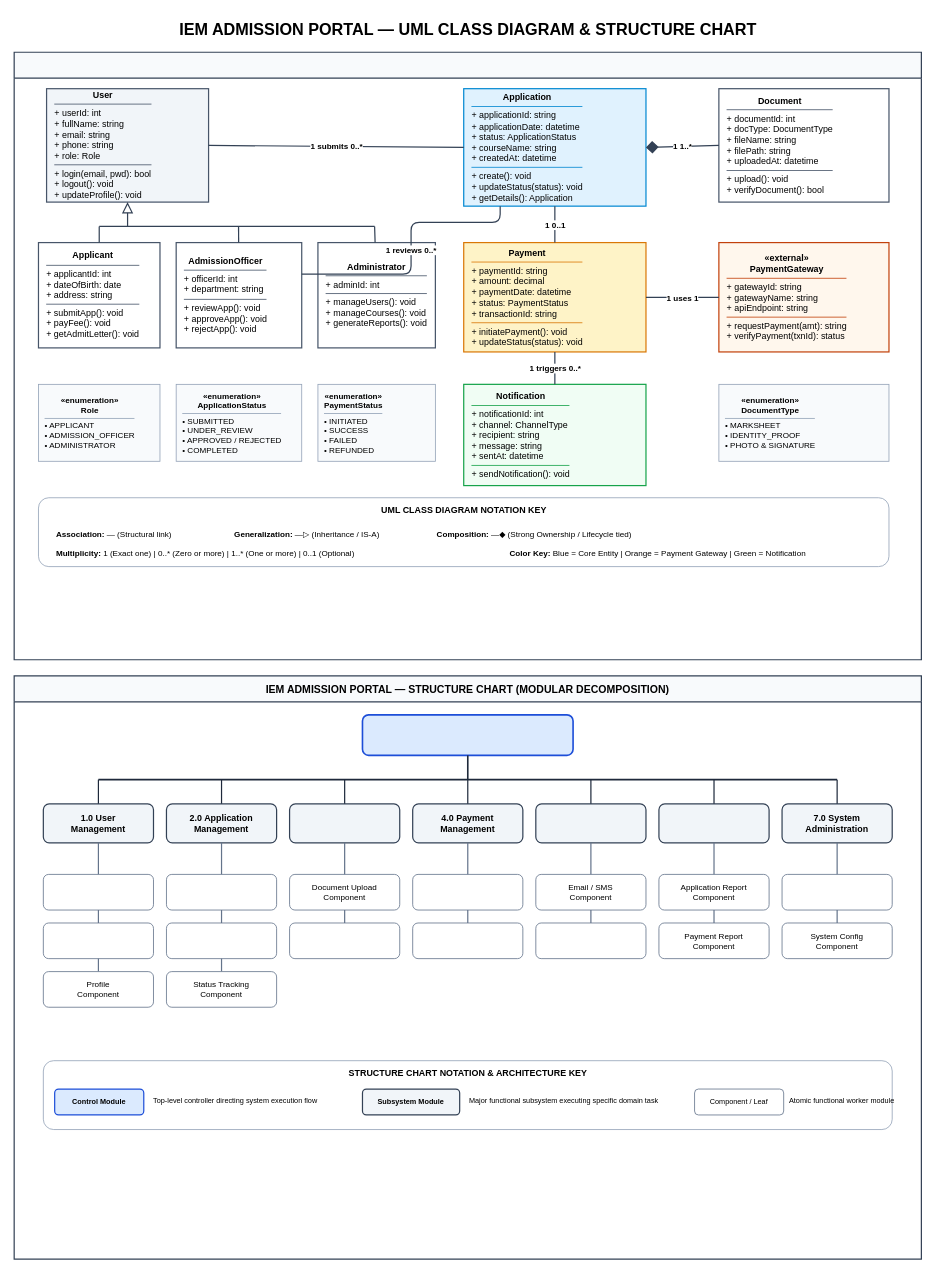
Some shapes in this 936 by 1273 pixel diagram are drawn without their labels. The shapes that lost their labels are listed below. From the top down, each one's box as (x1, y1, x2, y2) in pixels, then its label:
(13, 51, 922, 660): IEM ADMISSION PORTAL — UML CLASS DIAGRAM
(361, 714, 573, 756): 0.0 IEM ADMISSION PORTAL (Executive Control Module)
(289, 803, 400, 843): 3.0 Document Management
(535, 803, 646, 843): 5.0 Notification Module
(658, 803, 769, 843): 6.0 Report Management
(43, 874, 153, 910): Registration Component
(166, 874, 277, 910): Application Entry Component
(412, 874, 523, 910): Payment Request Component
(781, 874, 892, 910): Master Data Component
(43, 922, 153, 959): Authentication Component
(166, 922, 277, 959): Review & Decision Component
(289, 922, 400, 959): Document Verify Component
(412, 922, 523, 959): Gateway Interface Component
(535, 922, 646, 959): Delivery Tracking Component
